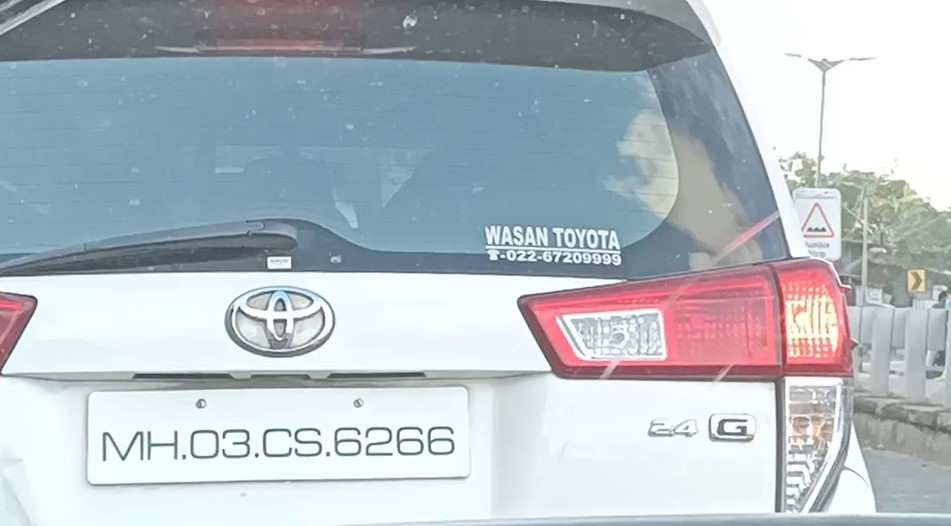MH03CS6266: (84, 383, 472, 488)
